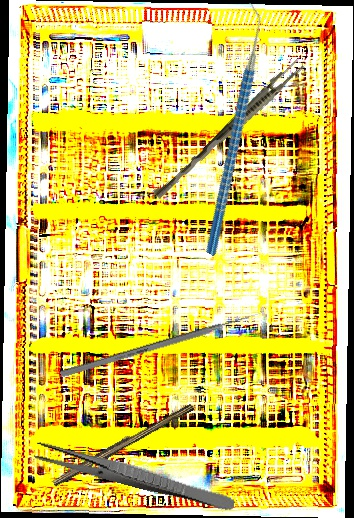Chopper: (126, 1, 336, 257)
Dressing Forceps: (32, 439, 238, 514)
Pusher: (59, 309, 264, 379)
Scalpel Handle: (50, 399, 195, 489)
Tissue Forceps: (152, 55, 306, 205)
